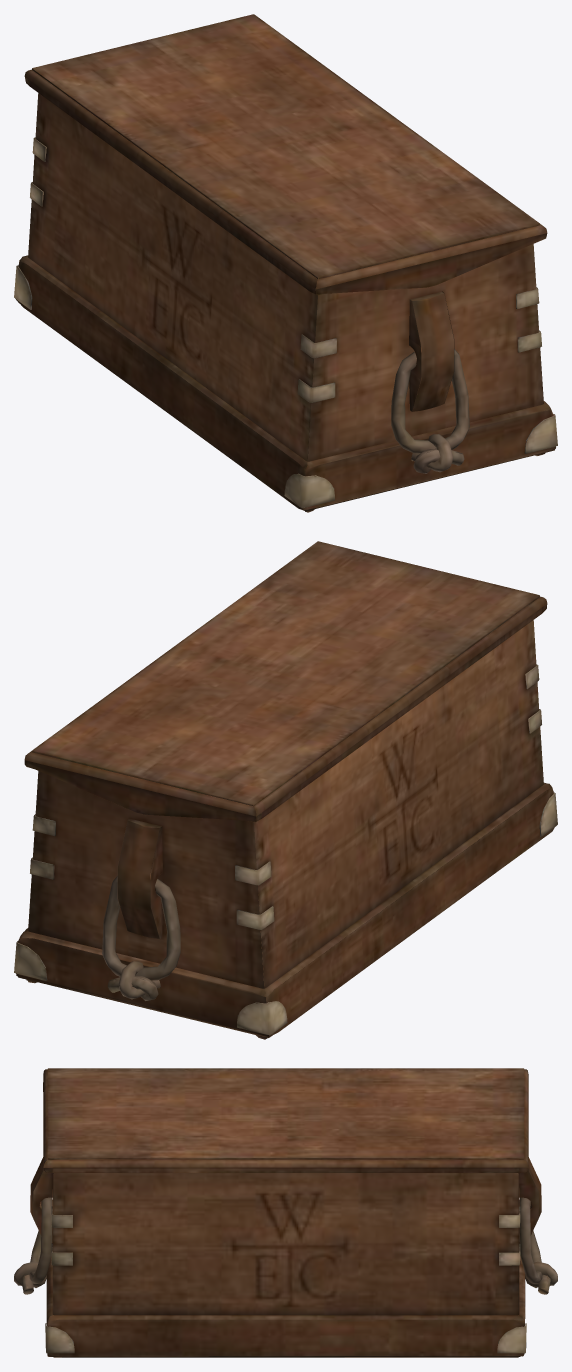
File: crate.glb
3 renders of one model, top to bottom at view 1: azimuth 30°, elevation 25°; view 2: azimuth 150°, elevation 25°; view 3: azimuth 270°, elevation 25°, orthographic. The views are drawn at different scales.
Parts seen in each view (by area): view 1: wooden_crate_02_crate; view 2: wooden_crate_02_crate; view 3: wooden_crate_02_crate.
Boxes of the visible parts, x1,y1,x2,y2 form: wooden_crate_02_crate: [14, 14, 557, 512]; wooden_crate_02_crate: [14, 541, 557, 1039]; wooden_crate_02_crate: [14, 1068, 557, 1357].
Bounding box in the file's own units: 0.5291 × 0.464 × 1.17.
Materials: 1 (1 with a texture image).
